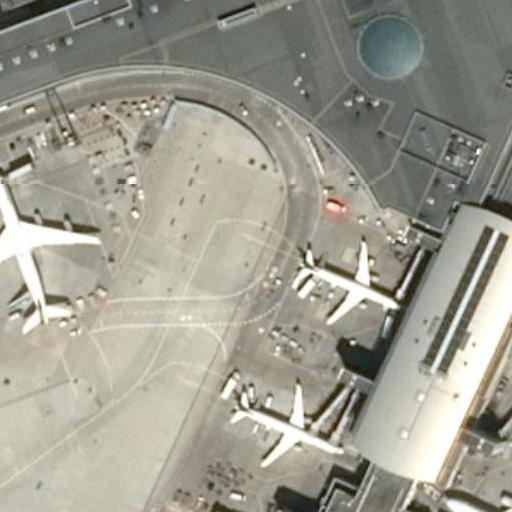Aircraft: (0, 146, 109, 336), (219, 371, 349, 472), (285, 232, 411, 329), (433, 456, 512, 512)
